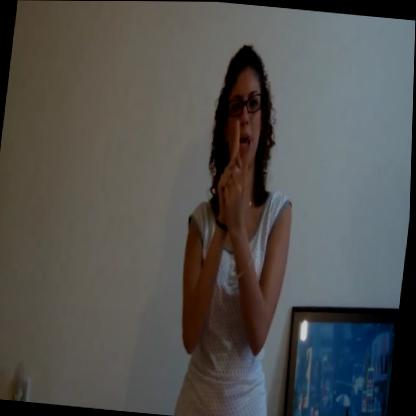NiceToMeetYou: (206, 103, 266, 219)
